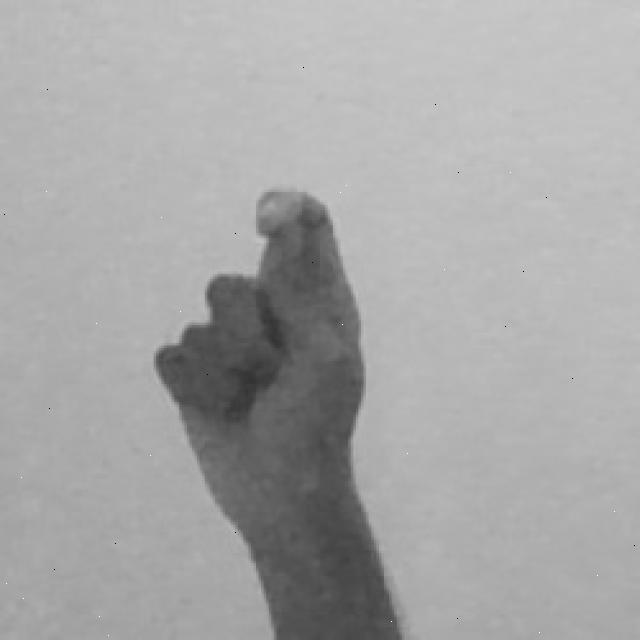T: (148, 182, 414, 640)
